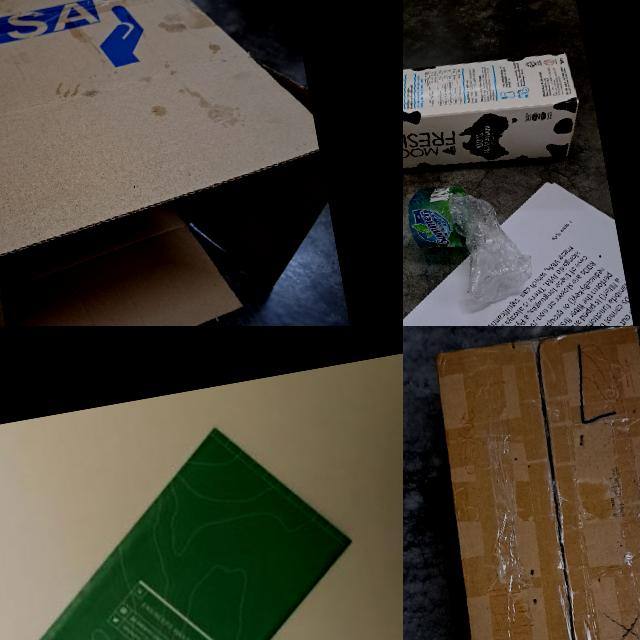caixinha: (403, 37, 588, 198)
garrafa plástica: (403, 173, 536, 316)
papel: (0, 406, 397, 640), (403, 174, 640, 326)
papelão: (0, 0, 357, 326), (414, 326, 640, 640)
